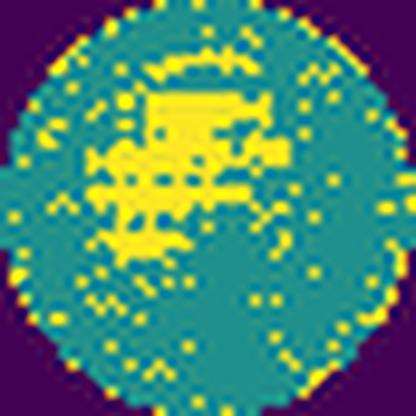Edge-Loc: (83, 88, 295, 266)
